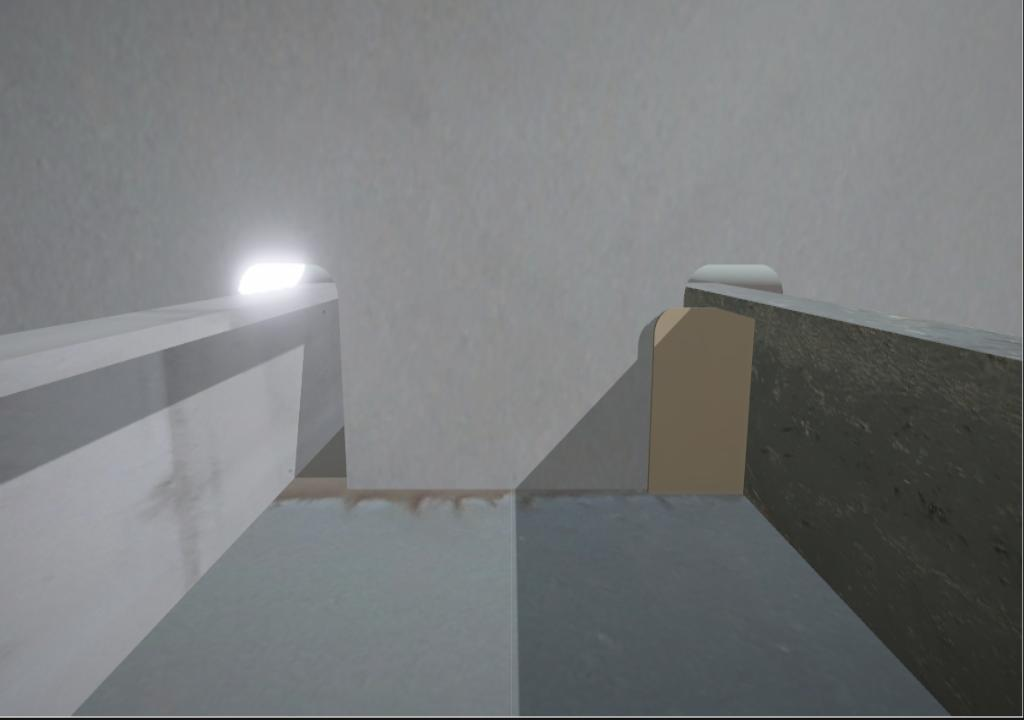fillet_yong_jeop_jang: (342, 485, 645, 494)
plate_CP05: (645, 308, 754, 497)
